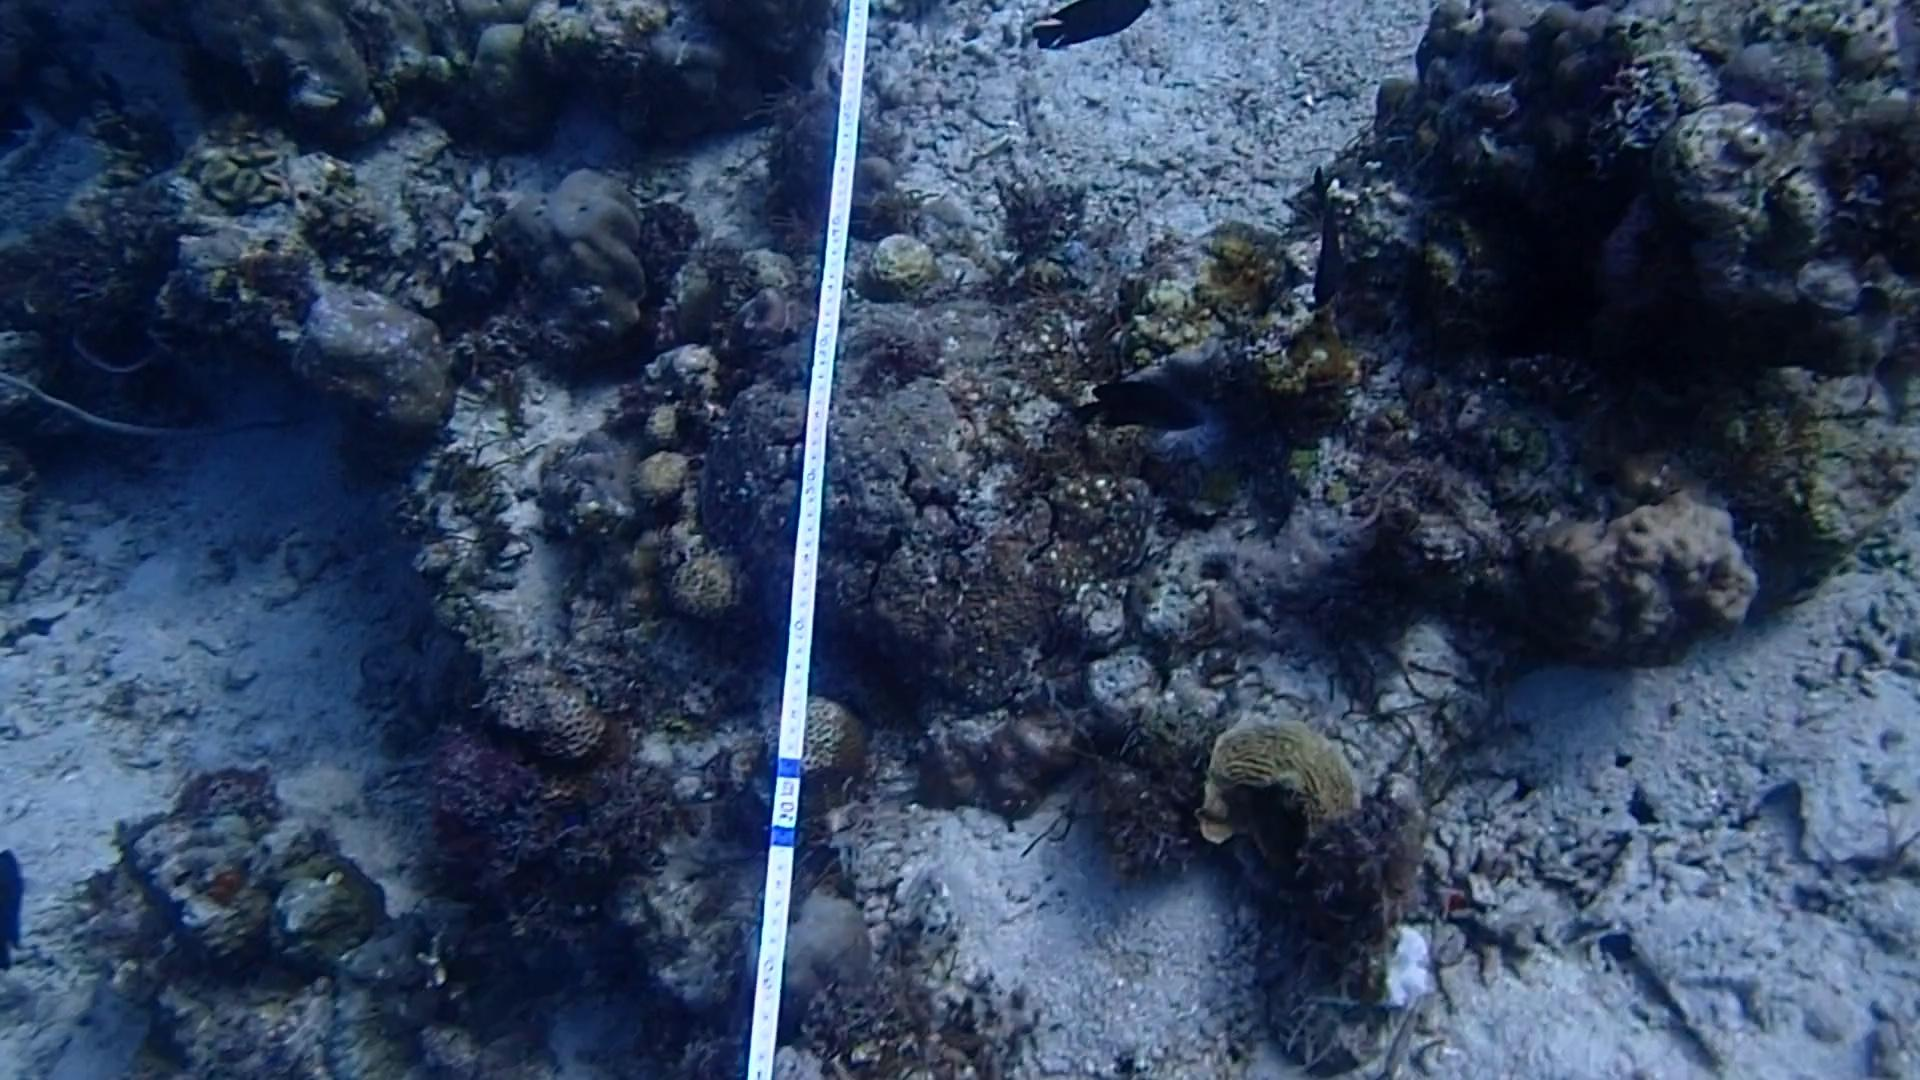Dark Fish: (1279, 169, 1373, 313), (1085, 371, 1212, 442), (1023, 0, 1158, 55), (0, 836, 36, 978)
